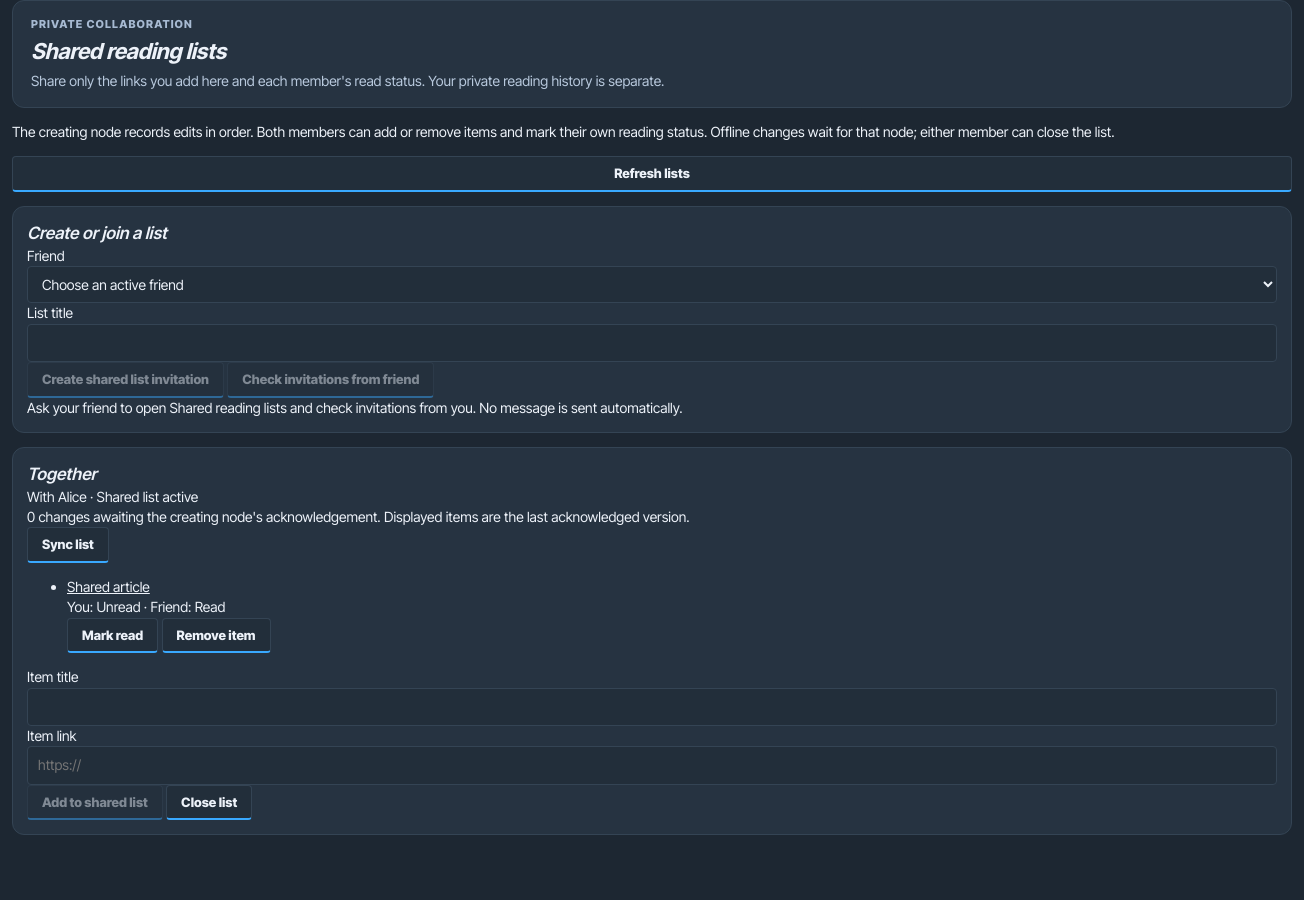
Scenario: changes only my read status and retains request identity across an uncertain write
The width and height of the screenshot is (1304, 900).
Expected: the text "You: Unread · Friend: Read" is shown, [67,598,225,615]
Click the button "Mark read": (113, 636) [67,618,158,653]
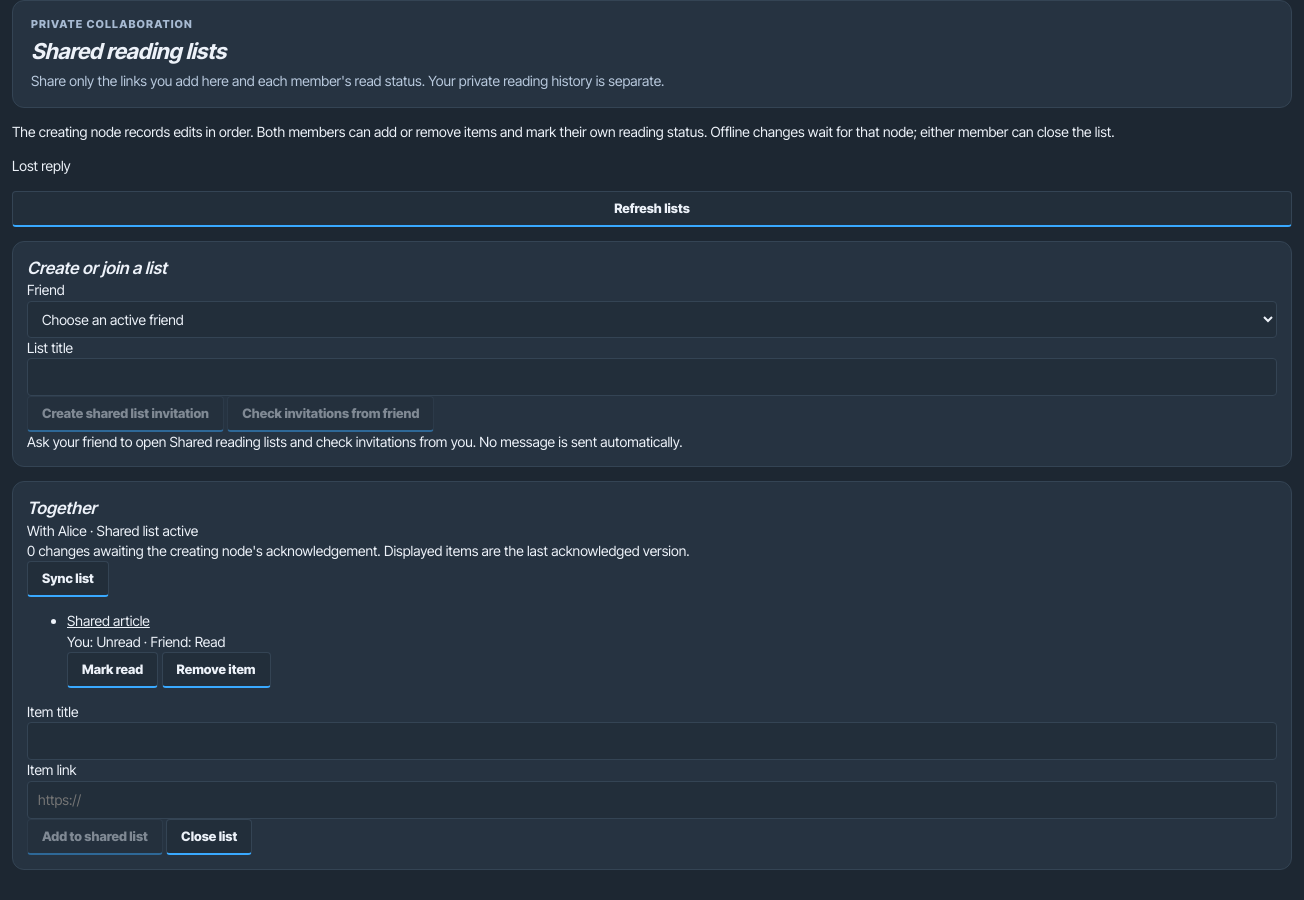
Expected: the message reads "Lost reply", [12,157,71,174]
Click the button "Mark read": (113, 670) [67,652,158,688]
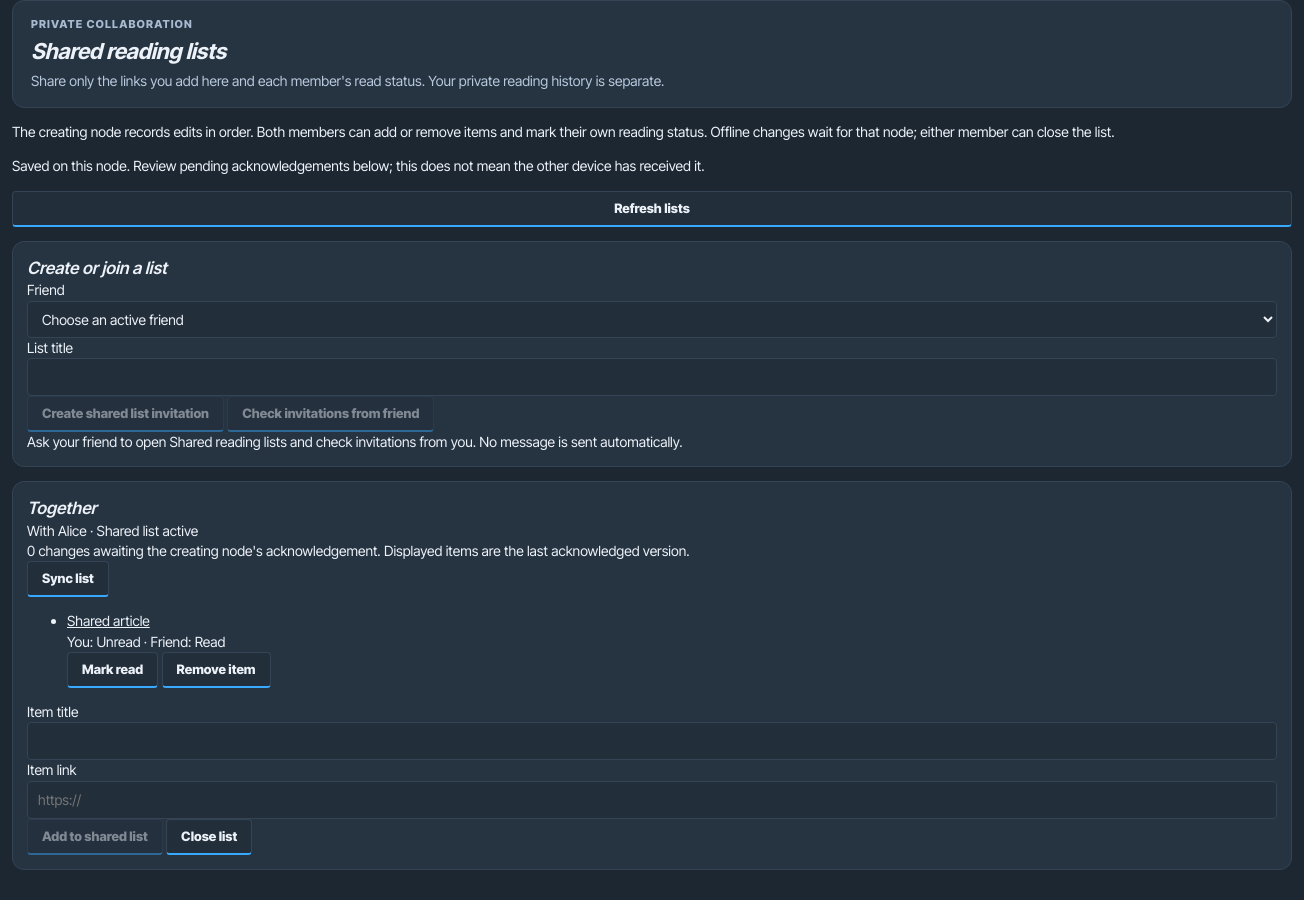
Expected: the text "Saved on this node" is shown, [12,157,705,174]
